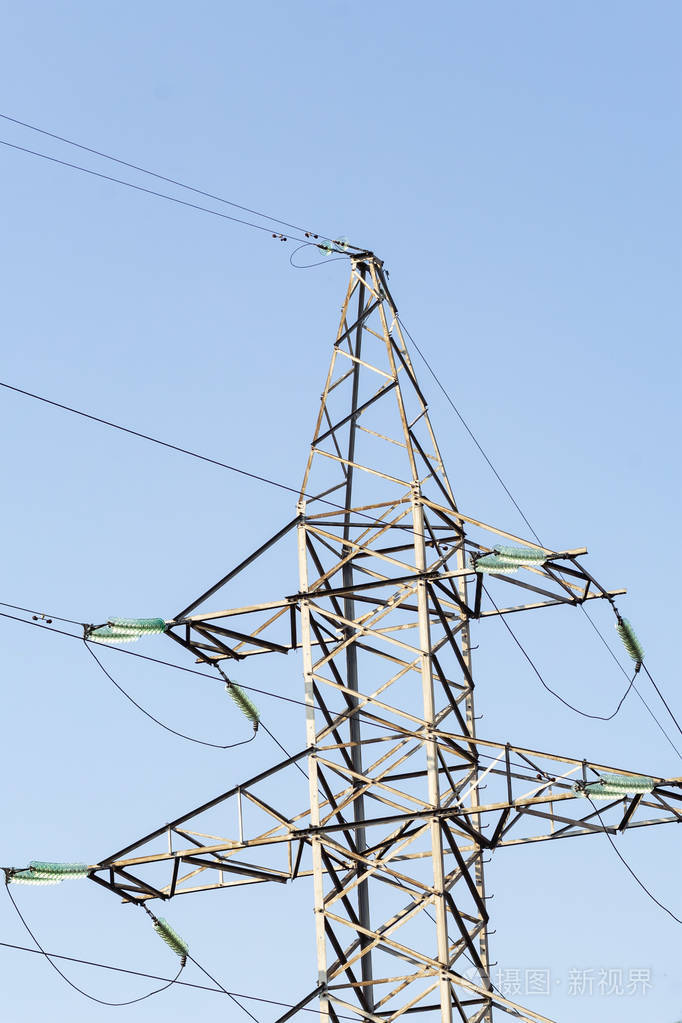insulator: (87, 619, 164, 647), (469, 548, 546, 575), (10, 861, 90, 886), (581, 776, 658, 800), (148, 914, 187, 956), (615, 618, 644, 664), (227, 680, 258, 719)
